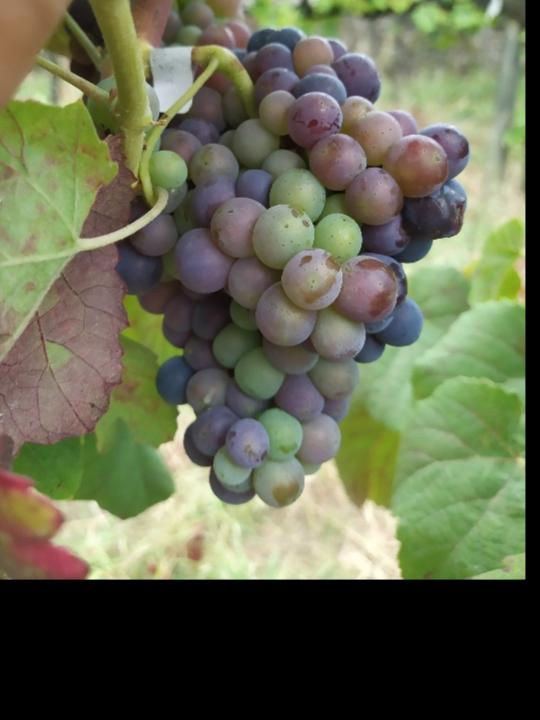grape: (113, 24, 473, 512)
